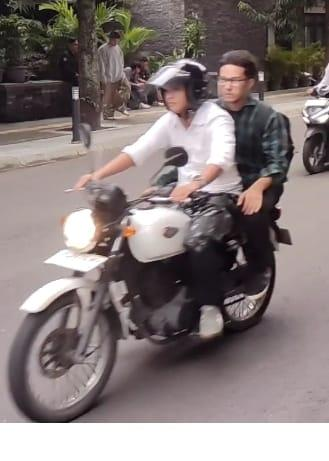helm: (146, 58, 210, 115)
nohelm: (214, 47, 260, 105)
riding: (8, 46, 296, 422)
